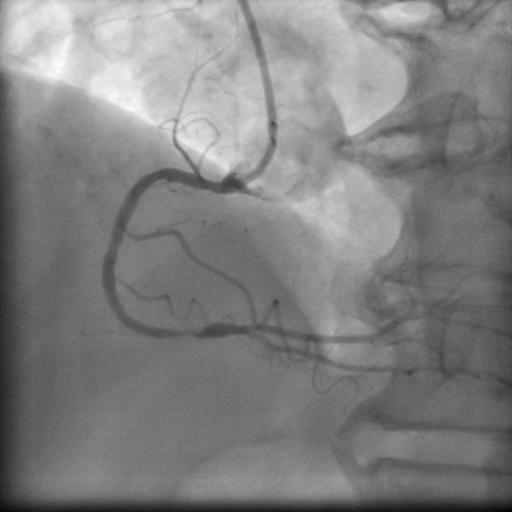Stenosis: (165, 325, 213, 343)
